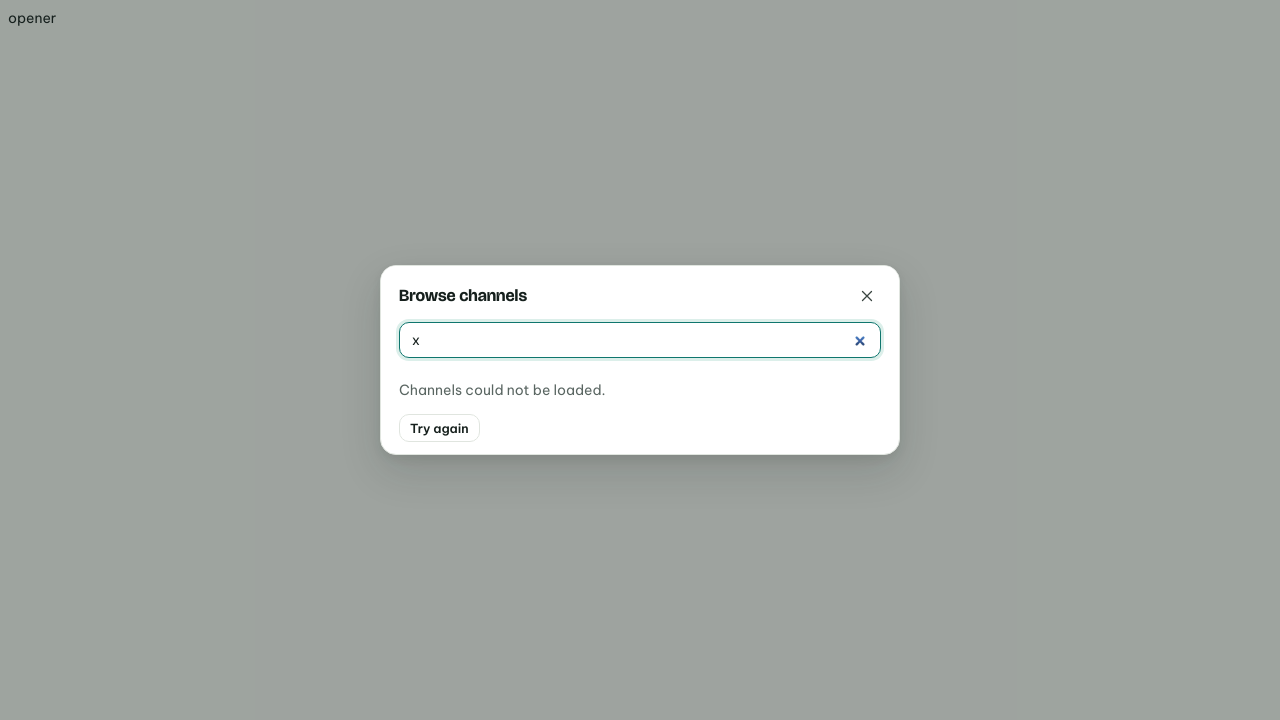
it: BrowseChannelsDialog (TOKI-034 R4 to R15) › the first page fails: the line and Retry; Retry asks again and the search keeps its text
This screenshot has width=1280, height=720.
Check: the text "Channels could not be loaded." is shown, box [399,381,606,399]
Check: the search field named "Search channels" holds "x", box [410,329,870,351]
What coordinates should you click on to do the following:
click the button "Try again"
I would click on:
 (439, 428)
Its box is [399,414,480,442].
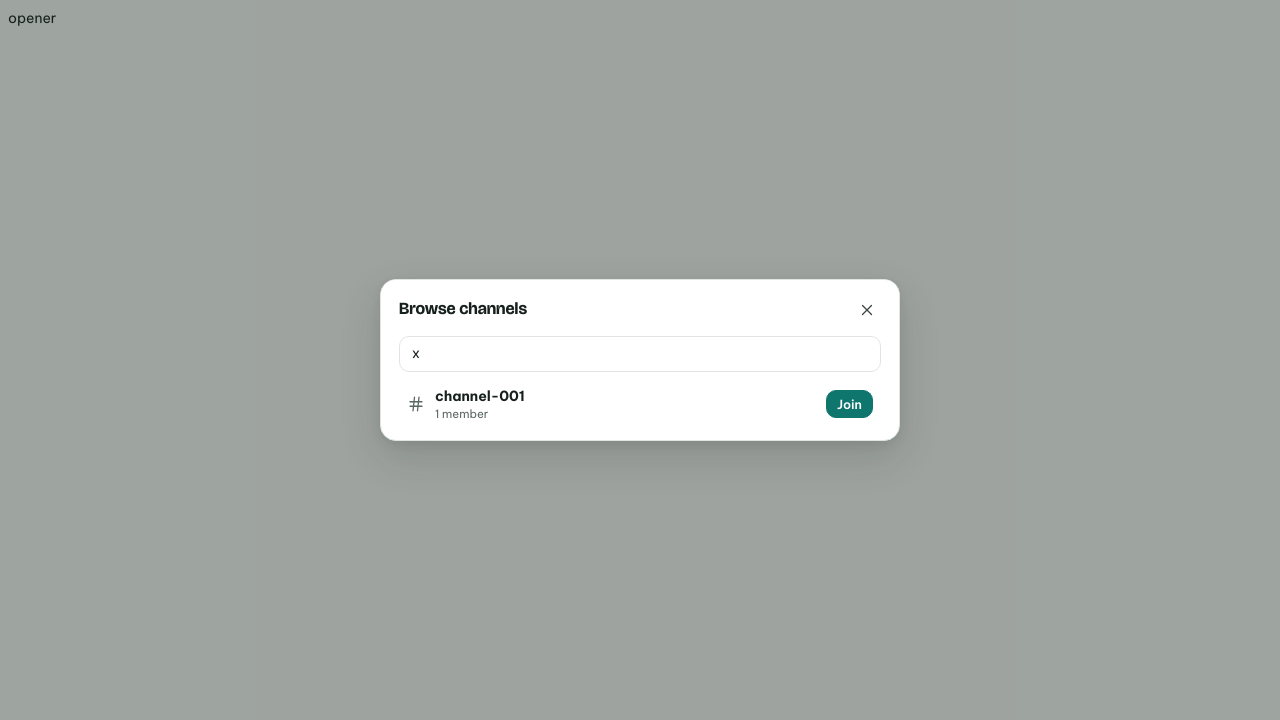
Check: the text "channel-001" is shown, box [435,386,525,404]
